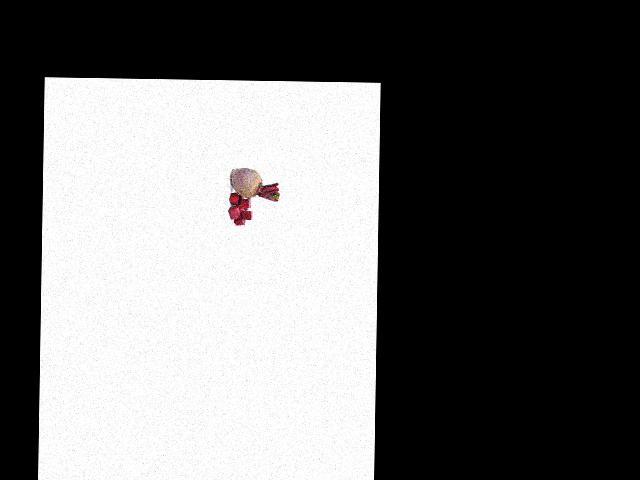beet: (229, 168, 279, 201)
